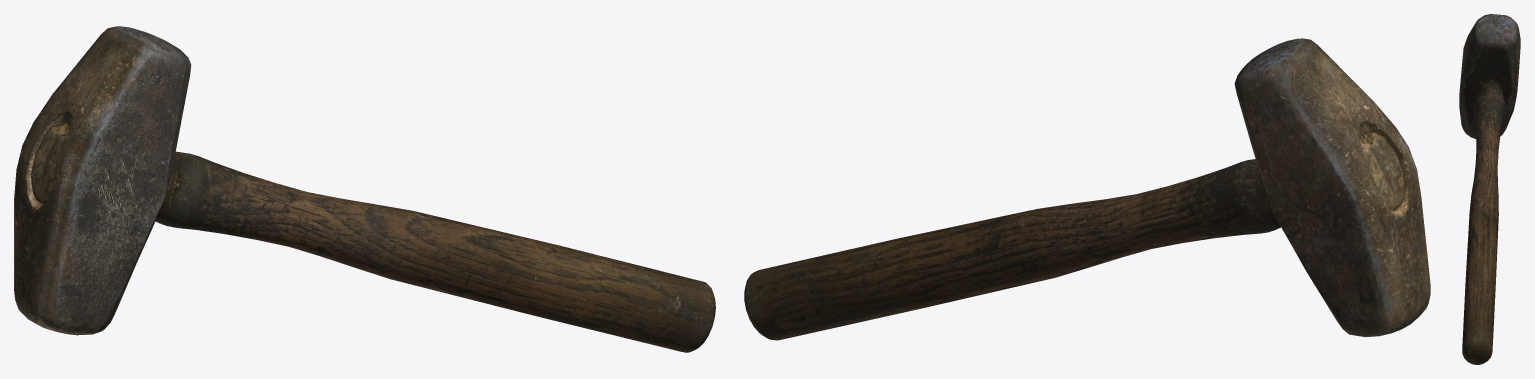
The model's file is hammer_old.glb.
3 views of the same model, side by side, from view 1: azimuth 30°, elevation 25°; view 2: azimuth 150°, elevation 25°; view 3: azimuth 270°, elevation 25° (orthographic). The views are drawn at different scales.
Parts seen in each view (by area): view 1: Hammer_low_TEX_Hammer_0; view 2: Hammer_low_TEX_Hammer_0; view 3: Hammer_low_TEX_Hammer_0.
Boxes of the visible parts, x1,y1,x2,y2 form: Hammer_low_TEX_Hammer_0: [14, 26, 715, 352]; Hammer_low_TEX_Hammer_0: [744, 38, 1430, 340]; Hammer_low_TEX_Hammer_0: [1459, 14, 1520, 364].
Bounding box in the file's own units: 2.02 × 1.24 × 0.3168.
Materials: 1 (1 with a texture image).
